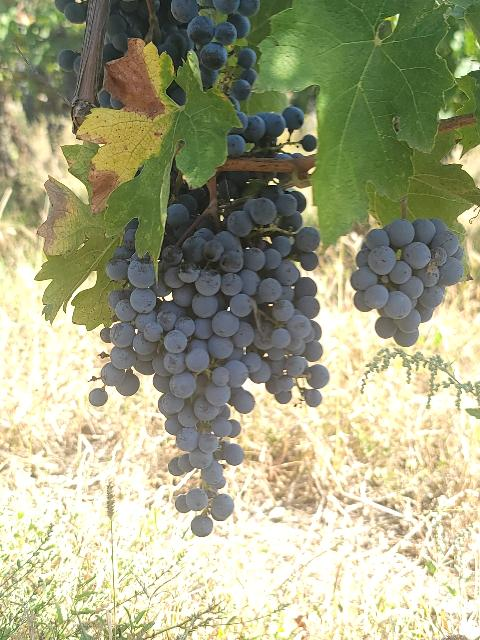grapes: (145, 229, 261, 536), (228, 192, 329, 401), (100, 189, 200, 395), (350, 218, 464, 346)
